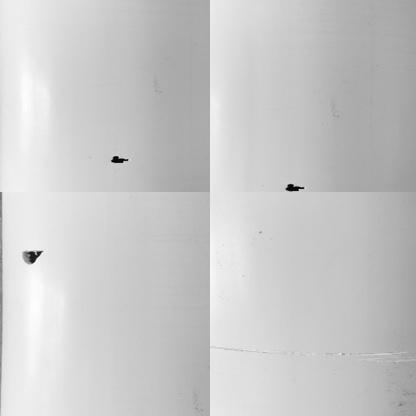kongdong: (20, 248, 45, 267), (108, 151, 130, 165), (284, 184, 307, 192)
sunshang: (213, 342, 412, 371)
